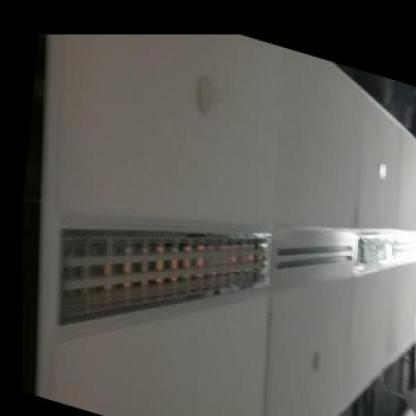light_off: (38, 156, 274, 403), (348, 213, 400, 296)
